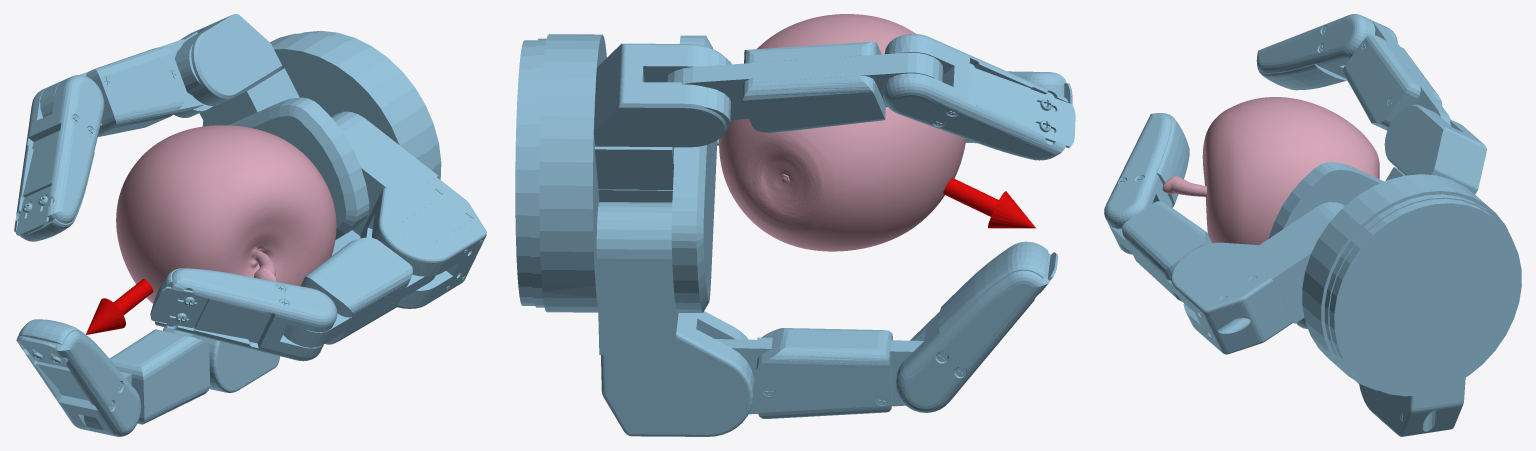
3 views of the same model, side by side, from view 1: azimuth 30°, elevation 25°; view 2: azimuth 150°, elevation 25°; view 3: azimuth 270°, elevation 25° (orthographic). The views are drawn at different scales.
Visible parts, largest first — view 1: world, apple.stl; view 2: world, apple.stl; view 3: world, apple.stl.
Part boxes in pixels (bbox=[...]): world: bbox=[14, 14, 486, 436]; apple.stl: bbox=[116, 125, 336, 303]; world: bbox=[515, 34, 1075, 436]; apple.stl: bbox=[719, 14, 965, 251]; world: bbox=[1104, 14, 1521, 436]; apple.stl: bbox=[1162, 97, 1379, 244].
Bounding box in the file's own units: 0.1882 × 0.1457 × 0.1688.
